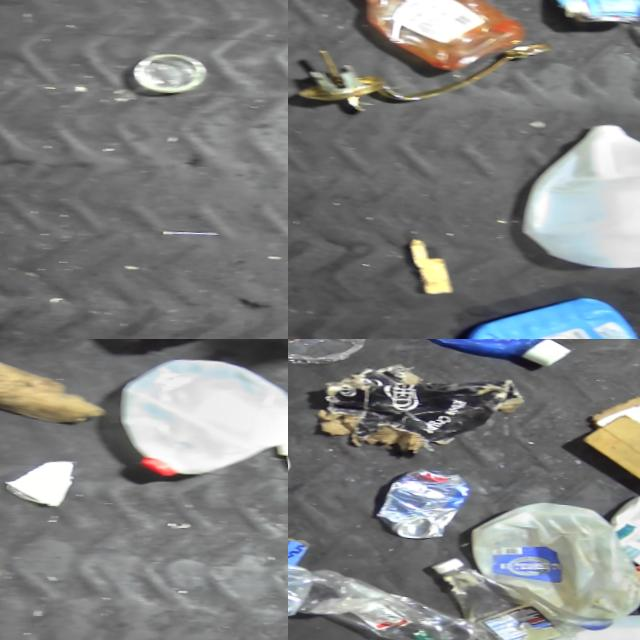can: (375, 466, 474, 544), (134, 52, 212, 96), (537, 0, 640, 29)
milk_jug: (463, 498, 640, 634), (108, 354, 288, 485), (547, 609, 640, 640)
non_white_jug: (521, 119, 640, 276), (330, 0, 534, 78), (458, 291, 640, 339)
plastic_bottle: (425, 556, 587, 640), (309, 568, 486, 640)
